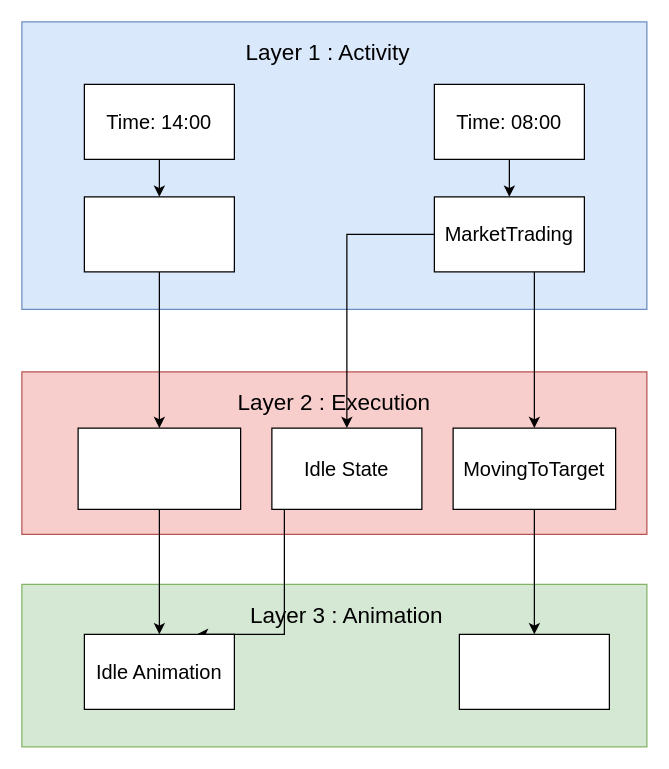
Some shapes in this 669 by 769 pixel diagram are drawn without their labels. The shapes that lost their labels are listed below. From the top down, each one's centre as x and y in pixels, then its label:
At point (158, 234): "FlowerHunting".
At point (159, 468): "GatheringFlower".
At point (533, 671): "Walking Animation".
